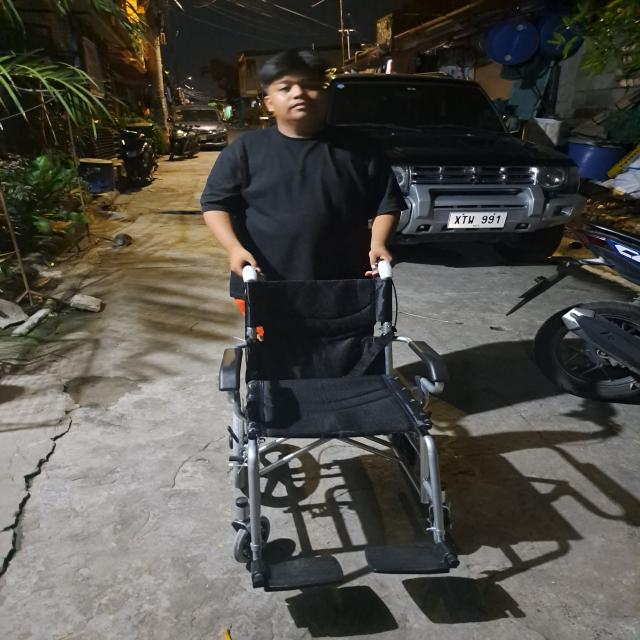wheelchairs: (220, 261, 458, 596)
